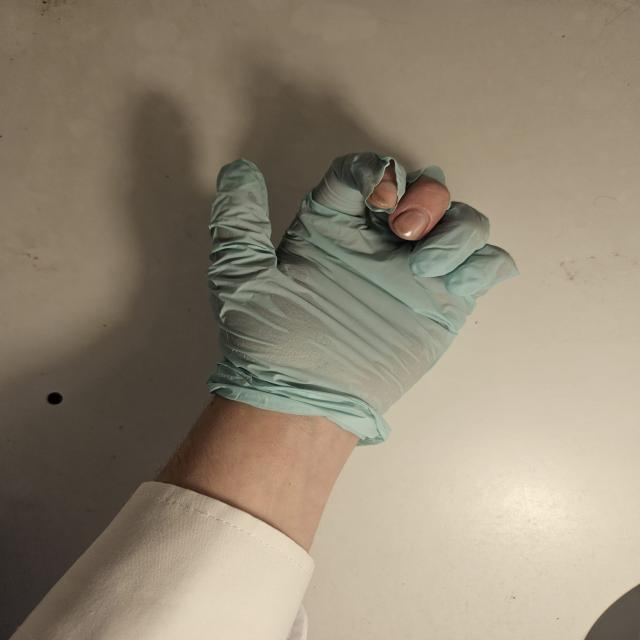gloves_damaged: (206, 147, 519, 448)
